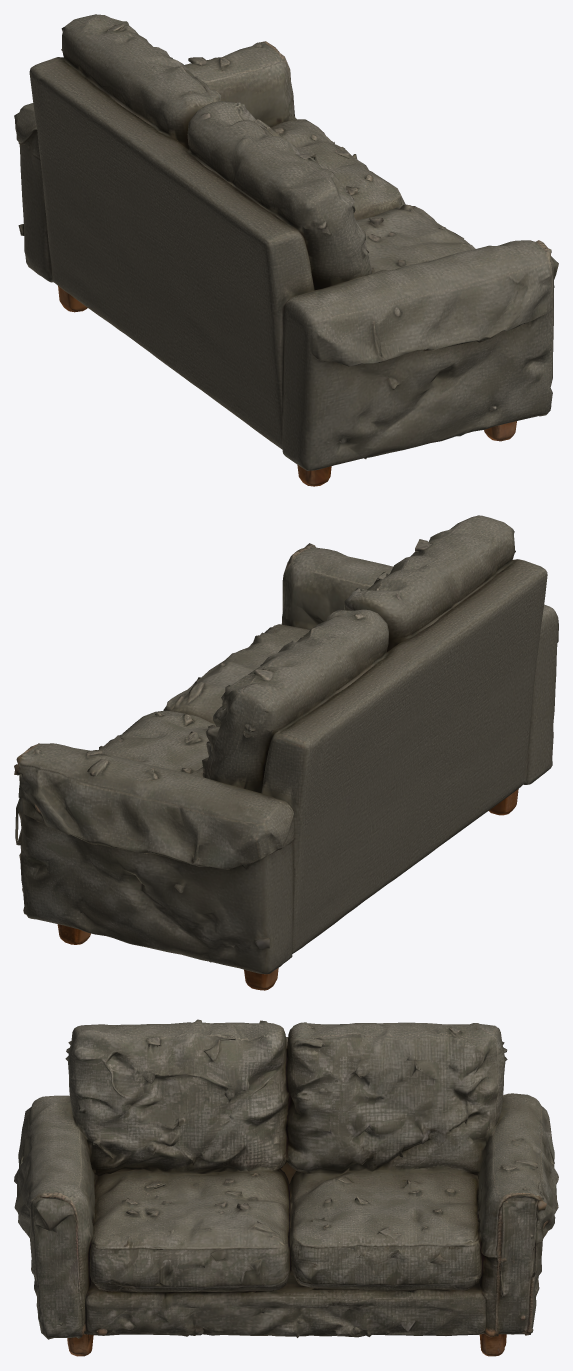
3 renders of one model, top to bottom at view 1: azimuth 30°, elevation 25°; view 2: azimuth 150°, elevation 25°; view 3: azimuth 270°, elevation 25°, orthographic. The views are drawn at different scales.
Parts seen in each view (by area): view 1: tripo_node_0a74d061-bff9-4420-a344-217515b7d62a; view 2: tripo_node_0a74d061-bff9-4420-a344-217515b7d62a; view 3: tripo_node_0a74d061-bff9-4420-a344-217515b7d62a.
Part boxes in pixels (bbox=[...]): tripo_node_0a74d061-bff9-4420-a344-217515b7d62a: bbox=[14, 14, 558, 486]; tripo_node_0a74d061-bff9-4420-a344-217515b7d62a: bbox=[14, 515, 558, 990]; tripo_node_0a74d061-bff9-4420-a344-217515b7d62a: bbox=[14, 1019, 558, 1356].
Size of the model in its own units: 0.5102 by 0.5143 by 1.
Materials: 1 (1 with a texture image).
